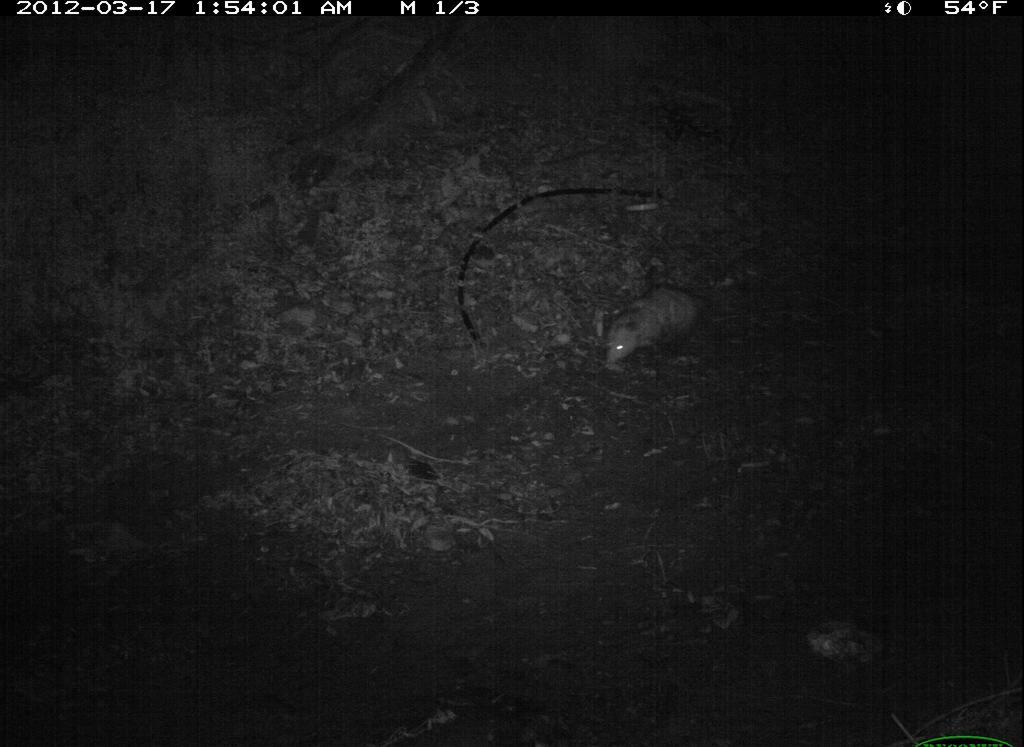opossum: (589, 274, 722, 390)
